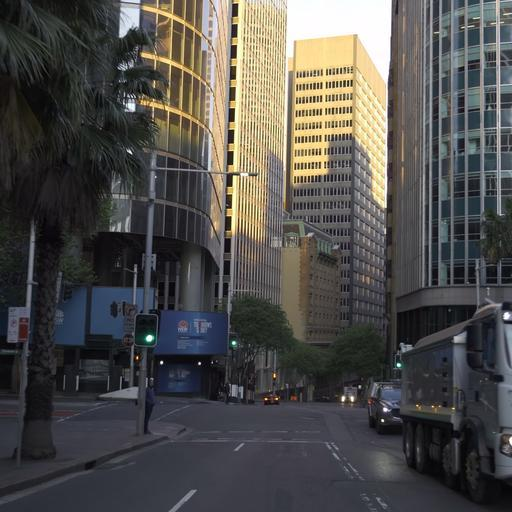Street light: (133, 147, 259, 435), (139, 163, 259, 312), (149, 167, 259, 177), (133, 312, 158, 348)
